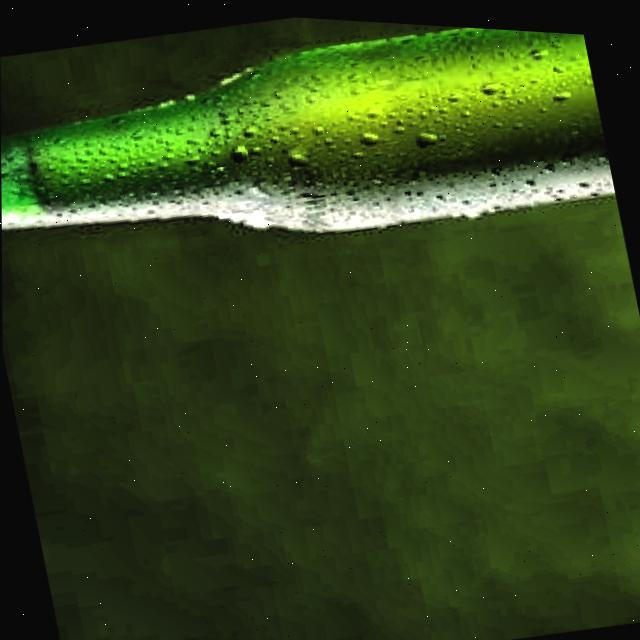glass: (1, 21, 616, 230)
